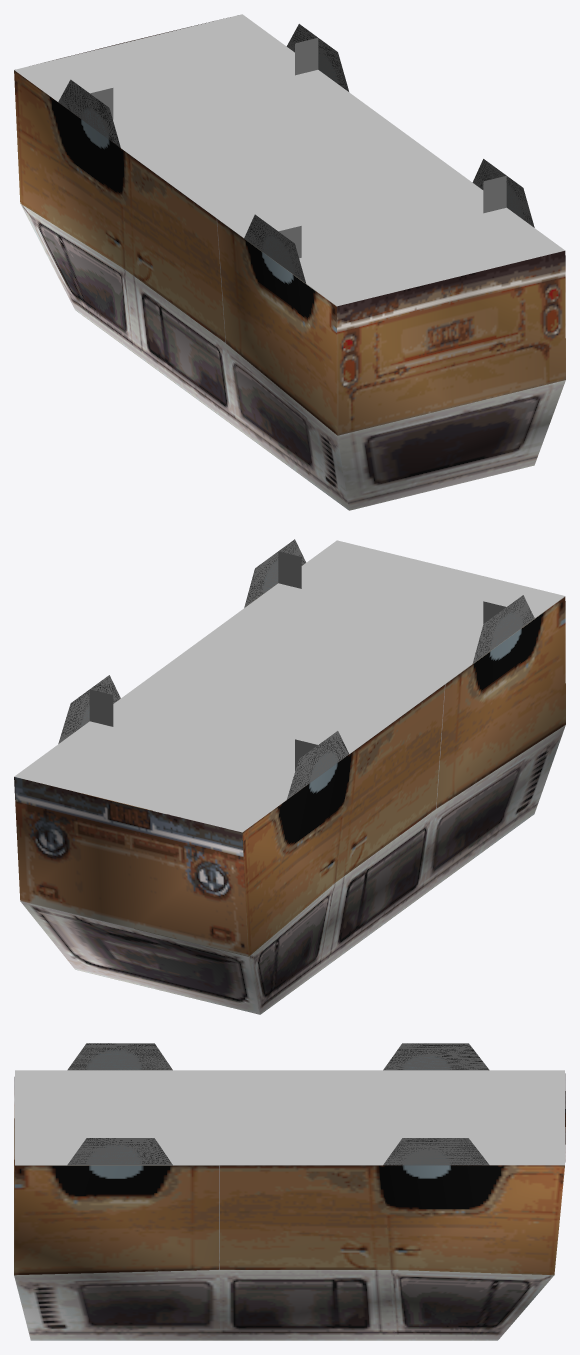
File: HAVANA_model11_low.obj
3 renders of one model, top to bottom at view 1: azimuth 30°, elevation 25°; view 2: azimuth 150°, elevation 25°; view 3: azimuth 270°, elevation 25°, orthographic. The views are drawn at different scales.
Visible parts, largest first — view 1: HAVANA_model11_low; view 2: HAVANA_model11_low; view 3: HAVANA_model11_low.
Boxes of the visible parts, x1,y1,x2,y2 form: HAVANA_model11_low: (14,14,565,510); HAVANA_model11_low: (14,539,565,1014); HAVANA_model11_low: (14,1043,565,1340).
Bounding box in the file's own units: 254 × 264 × 624.
